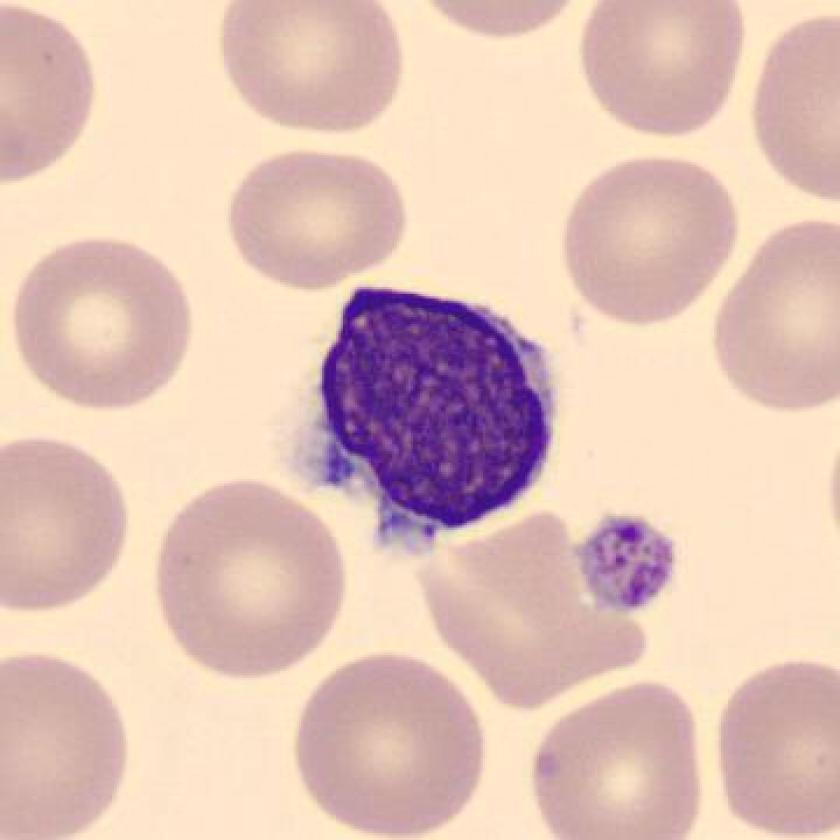lymphocyte: (267, 269, 575, 582)
